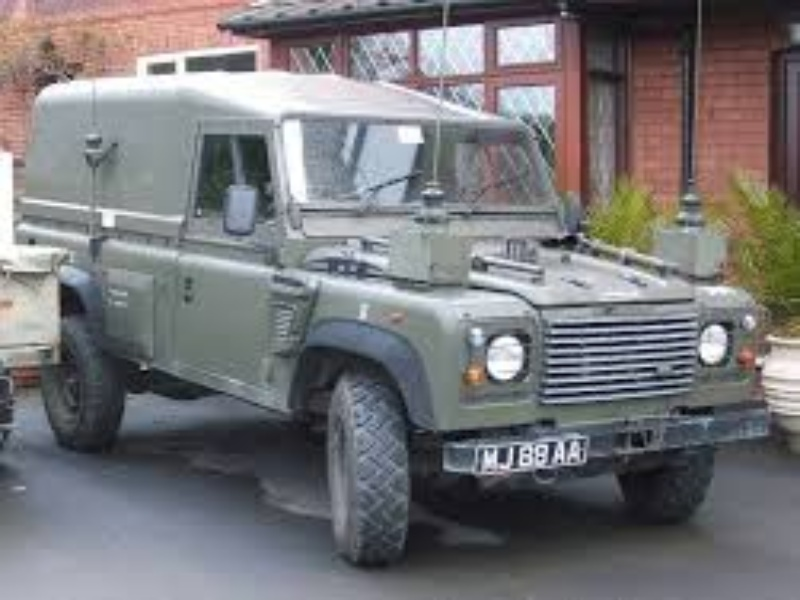jeep: (23, 81, 777, 573)
